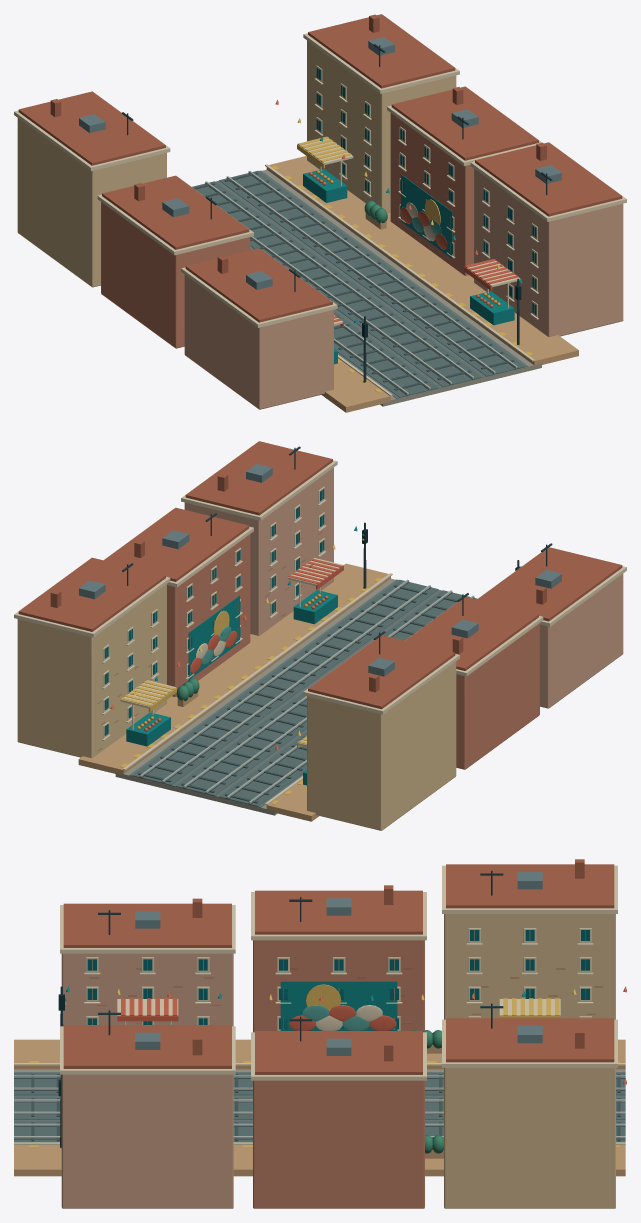
The model's file is mural-1.glb.
3 renders of one model, top to bottom at view 1: azimuth 30°, elevation 25°; view 2: azimuth 150°, elevation 25°; view 3: azimuth 270°, elevation 25°, orthographic. The views are drawn at different scales.
Parts seen in each view (by area): view 1: city-mural-1; view 2: city-mural-1; view 3: city-mural-1.
Part boxes in pixels (x1,y1,x2,y2): city-mural-1: (14, 14, 626, 412); city-mural-1: (14, 441, 626, 830); city-mural-1: (14, 859, 626, 1208).
Bounding box in the file's own units: 25.5 × 10.45 × 32.07.
